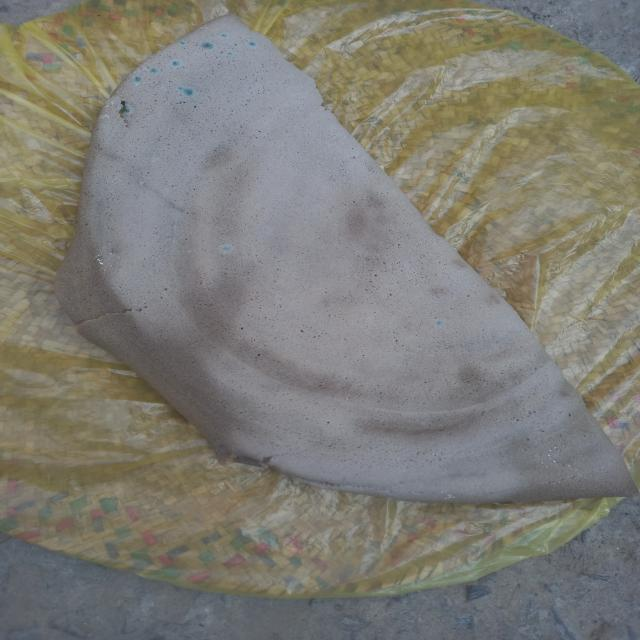injera_mold: (218, 244, 234, 255), (102, 99, 117, 108), (118, 104, 131, 114), (201, 41, 214, 50), (136, 64, 146, 72), (443, 494, 456, 500), (98, 113, 109, 120), (184, 88, 193, 96), (96, 258, 105, 265), (134, 76, 142, 83), (150, 67, 158, 74), (248, 41, 257, 47), (172, 61, 180, 66), (546, 454, 552, 460), (178, 41, 186, 45), (220, 34, 228, 38), (227, 51, 233, 56), (436, 320, 442, 325), (178, 86, 183, 90), (552, 460, 556, 463), (568, 464, 571, 468), (440, 491, 445, 493), (549, 449, 552, 452), (541, 462, 544, 464), (97, 254, 100, 256), (94, 256, 97, 258), (117, 258, 120, 260), (546, 466, 548, 468), (104, 269, 106, 271), (110, 265, 112, 267), (554, 447, 556, 448), (110, 253, 112, 254)
